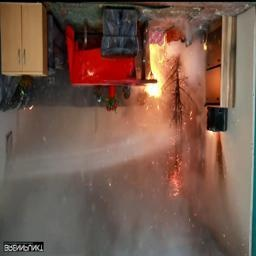fire: (139, 43, 178, 112)
